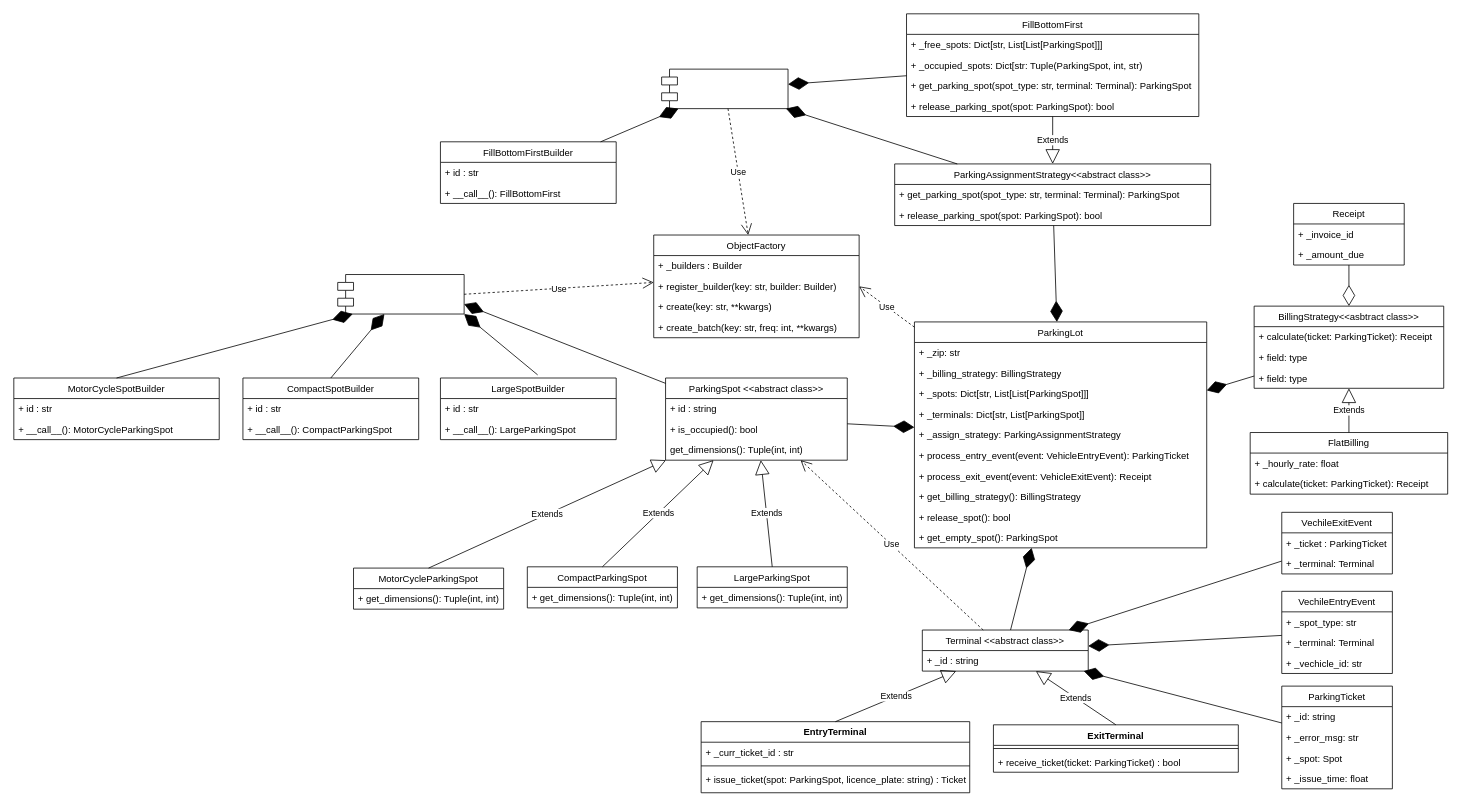
Image size: 1462x809. Some labels were removed from this diagram. The centre of each missing label's shape, as x and y in pixels:
"Module parking_assignment.py" goes at [724,88].
"Module parking_spot.py" goes at [400,294].
